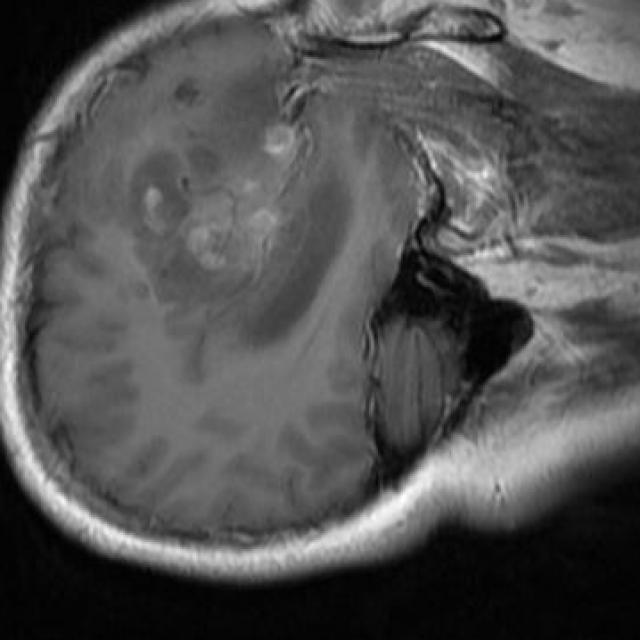glioma: (130, 78, 349, 346)
